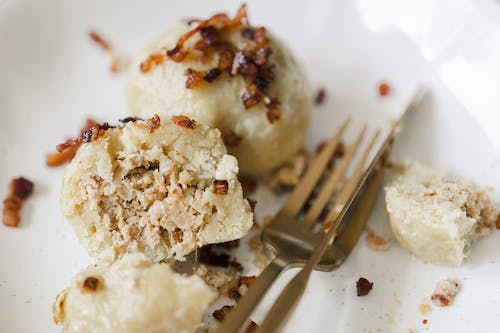knife: (252, 87, 431, 333)
